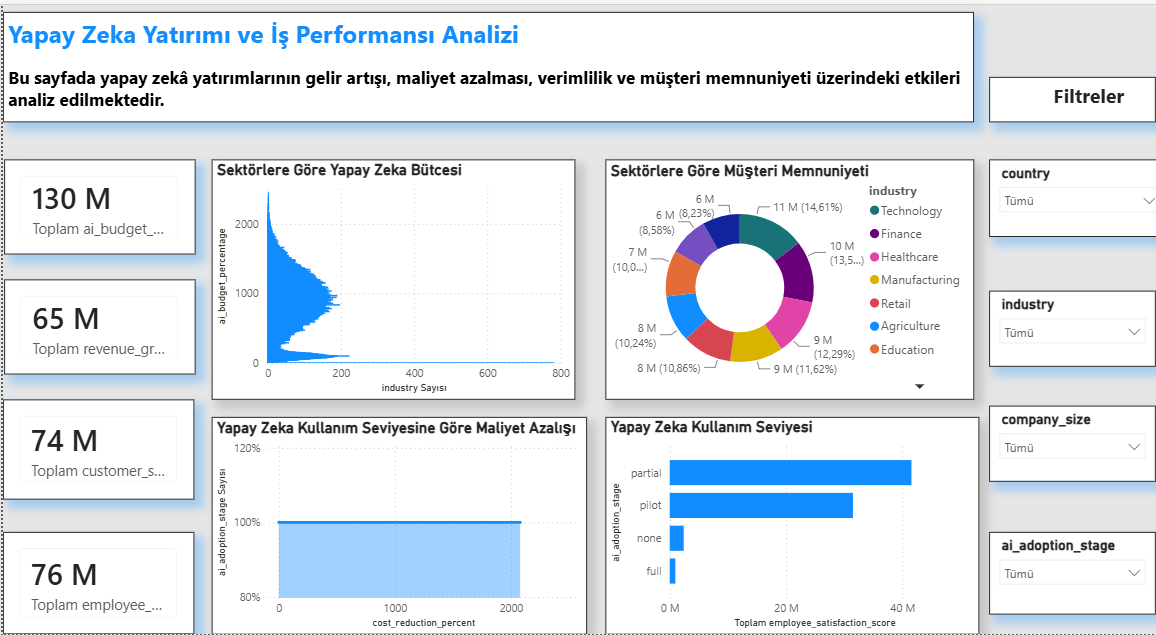

What the dashboard file says about the page in this screenshot:
{"tool":"powerbi","page":{"name":"2. sayfa","canvas":[1280,720],"ordinal":1},"visuals":[{"type":"clusteredBarChart","title":"Sektörlere Göre Yapay Zeka Bütcesi","fields":{"Category":["ai_company_adoption.ai_budget_percentage"],"Y":["CountNonNull(ai_company_adoption.industry)"]},"box":[228.8,200,398.6,263],"z":0},{"type":"hundredPercentStackedAreaChart","title":"Yapay Zeka Kullanım Seviyesine Göre Maliyet Azalışı","fields":{"Category":["ai_company_adoption.cost_reduction_percent"],"Y":["CountNonNull(ai_company_adoption.ai_adoption_stage)"]},"box":[228.8,482.2,411,238.4],"z":1000},{"type":"donutChart","title":"Sektörlere Göre Müşteri Memnuniyeti","fields":{"Category":["ai_company_adoption.industry"],"Y":["Sum(ai_company_adoption.customer_satisfaction)"]},"box":[660.3,200,404.1,263],"z":2000},{"type":"barChart","title":"Yapay Zeka Kullanım Seviyesi","fields":{"Y":["Sum(ai_company_adoption.employee_satisfaction_score)"],"Category":["ai_company_adoption.ai_adoption_stage"]},"box":[660.3,482.2,409.6,238.4],"z":3000},{"type":"slicer","fields":{"Values":["ai_company_adoption.country"]},"box":[1080.8,200,198.6,84.9],"z":4000},{"type":"slicer","fields":{"Values":["ai_company_adoption.industry"]},"box":[1080.8,343.8,182.2,83.6],"z":5000},{"type":"slicer","fields":{"Values":["ai_company_adoption.company_size"]},"box":[1080.8,469.9,182.2,83.6],"z":6000},{"type":"slicer","fields":{"Values":["ai_company_adoption.ai_adoption_stage"]},"box":[1080.8,608.2,182.2,90.4],"z":7000},{"type":"textbox","box":[1080.8,109.6,182.2,49.3],"z":8000},{"type":"textbox","box":[0,38.4,1064.4,120.5],"z":9000},{"type":"cardVisual","fields":{"Data":["Sum(ai_company_adoption.ai_budget_percentage)"]},"box":[1.4,200,209.6,104.1],"z":10000},{"type":"cardVisual","fields":{"Data":["Sum(ai_company_adoption.revenue_growth_percent)"]},"box":[1.4,331.5,209.6,104.1],"z":11000},{"type":"cardVisual","fields":{"Data":["Sum(ai_company_adoption.customer_satisfaction)"]},"box":[0,463,209.6,109.6],"z":12000},{"type":"cardVisual","fields":{"Data":["Sum(ai_company_adoption.employee_satisfaction_score)"]},"box":[0,608.2,209.6,112.3],"z":12001}]}

Visuals, with their boxes in screenshot pixels (x1, y1, x2, y2), scaled from the page's 1280x720 canvas onto the 1156x635 screenshot:
"Sektörlere Göre Yapay Zeka Bütcesi" clusteredBarChart: region(207, 176, 567, 408)
"Yapay Zeka Kullanım Seviyesine Göre Maliyet Azalışı" hundredPercentStackedAreaChart: region(207, 425, 578, 634)
"Sektörlere Göre Müşteri Memnuniyeti" donutChart: region(596, 176, 961, 408)
"Yapay Zeka Kullanım Seviyesi" barChart: region(596, 425, 966, 634)
slicer - ai_company_adoption.country: region(976, 176, 1155, 251)
slicer - ai_company_adoption.industry: region(976, 303, 1141, 377)
slicer - ai_company_adoption.company_size: region(976, 414, 1141, 488)
slicer - ai_company_adoption.ai_adoption_stage: region(976, 536, 1141, 616)
textbox: region(976, 97, 1141, 140)
textbox: region(0, 34, 961, 140)
cardVisual - Sum(ai_company_adoption.ai_budget_percentage): region(1, 176, 191, 268)
cardVisual - Sum(ai_company_adoption.revenue_growth_percent): region(1, 292, 191, 384)
cardVisual - Sum(ai_company_adoption.customer_satisfaction): region(0, 408, 189, 505)
cardVisual - Sum(ai_company_adoption.employee_satisfaction_score): region(0, 536, 189, 634)
